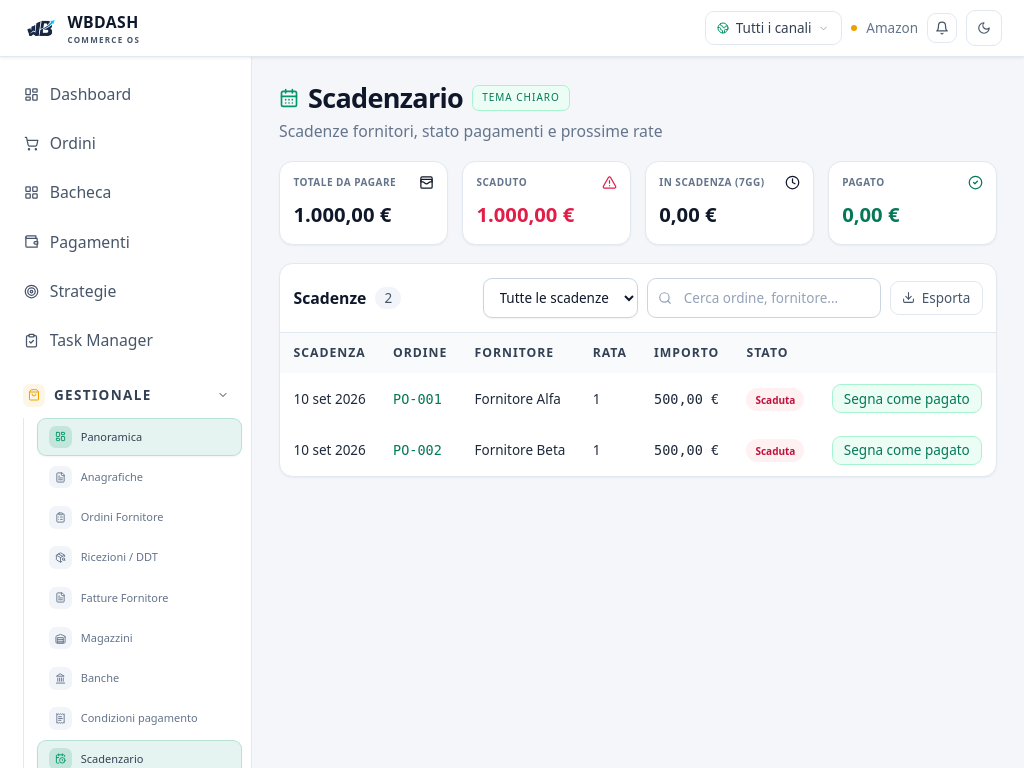
Test case: ScadenzarioPage › filters rows by PO number via the search box
expect the text "Fornitore Alfa" is shown: met, box [461, 373, 579, 424]
Type "PO-002" into the field with placeholder "Cerca ordine, fornitore...".
click(764, 298); type("PO-002")  # box [647, 278, 881, 318]
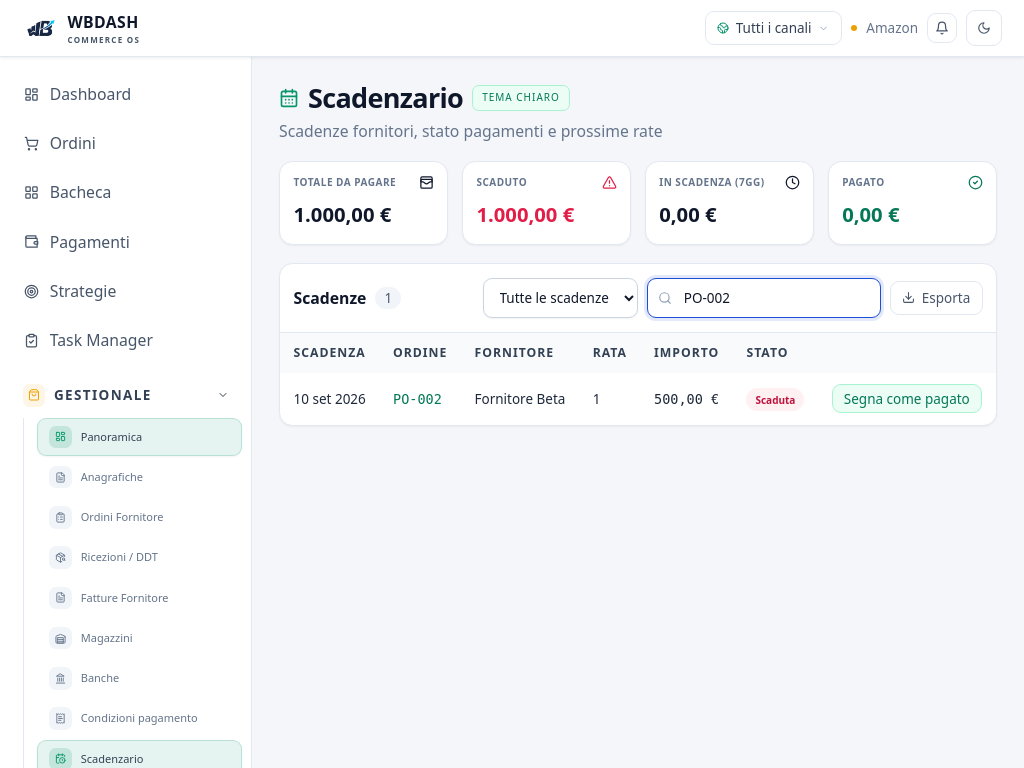
expect the text "Fornitore Beta" is shown: met, box [461, 373, 579, 424]
expect the text "Fornitore Alfa" is gone: met
